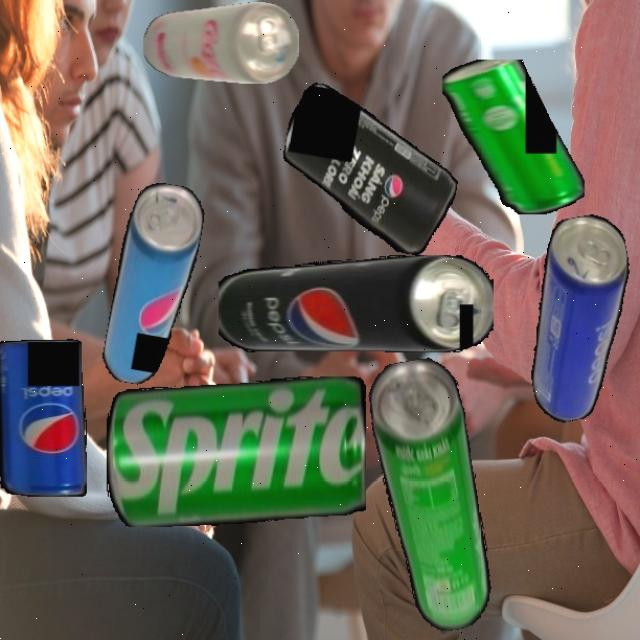debris: (106, 375, 366, 527), (363, 353, 501, 637), (271, 80, 469, 260), (506, 210, 640, 426), (217, 255, 493, 353), (99, 179, 208, 390), (441, 59, 585, 214), (0, 339, 87, 497), (142, 2, 299, 84)
